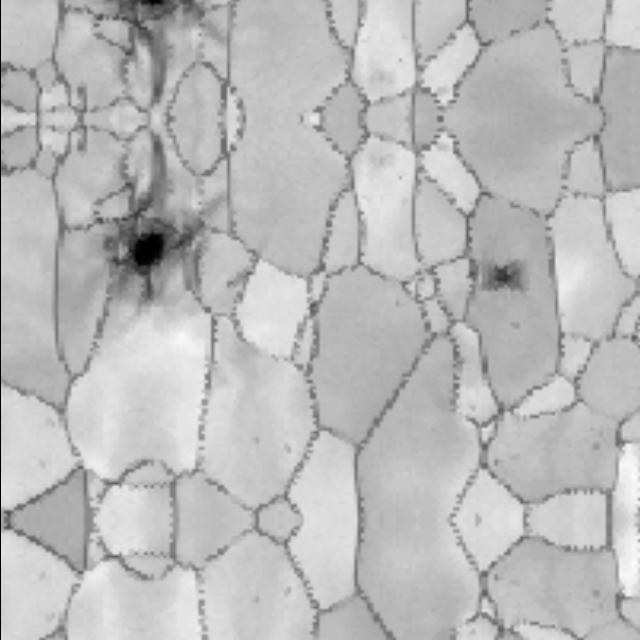good_void: (97, 132, 211, 326), (99, 0, 210, 108), (475, 260, 520, 296), (386, 299, 406, 314), (588, 442, 601, 456), (588, 586, 601, 600), (250, 434, 263, 445), (506, 318, 519, 329), (250, 597, 263, 608)
